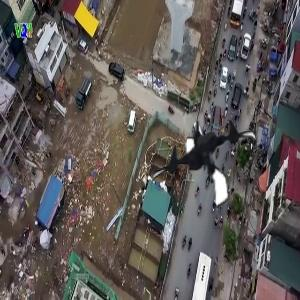drone: (152, 107, 261, 216)
